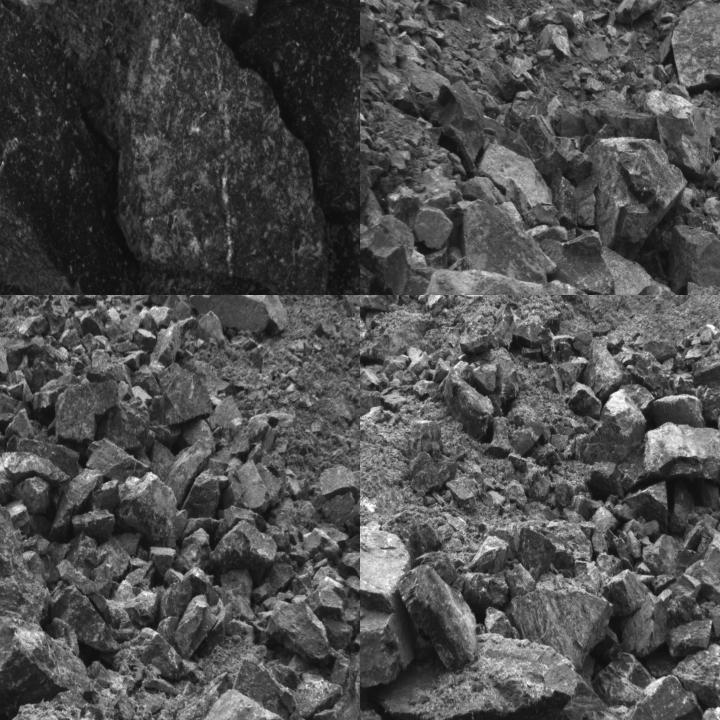stone: (0, 0, 113, 294), (240, 0, 359, 218), (382, 637, 580, 719), (586, 138, 688, 262), (360, 525, 417, 690), (505, 587, 613, 670), (458, 198, 554, 286), (399, 564, 480, 668), (0, 623, 89, 712), (619, 423, 719, 498), (478, 143, 559, 228), (577, 387, 649, 465), (114, 472, 187, 548), (46, 583, 121, 652), (509, 116, 574, 194), (432, 77, 487, 166), (266, 600, 338, 666), (54, 380, 128, 442), (538, 236, 613, 294), (671, 0, 719, 89), (209, 520, 277, 582), (49, 468, 104, 542), (189, 295, 289, 335), (439, 367, 493, 441), (589, 651, 655, 710), (621, 676, 705, 719), (667, 226, 719, 293), (611, 251, 689, 294), (158, 364, 212, 426), (583, 340, 635, 403), (675, 646, 719, 716), (86, 438, 152, 484), (166, 439, 212, 505), (102, 393, 154, 451), (545, 520, 595, 578), (622, 593, 668, 656), (598, 570, 657, 618), (360, 127, 384, 242), (182, 460, 228, 519), (360, 215, 416, 263), (682, 102, 718, 176), (222, 460, 270, 512), (622, 480, 670, 530), (410, 202, 454, 251), (517, 528, 556, 581), (296, 673, 344, 716), (641, 536, 691, 576), (1, 452, 71, 480), (374, 246, 413, 294), (32, 373, 82, 410), (505, 91, 550, 132), (693, 537, 719, 607), (632, 352, 673, 394), (464, 572, 507, 612), (582, 509, 620, 554), (668, 619, 714, 656), (410, 456, 457, 492), (229, 414, 270, 455), (655, 394, 705, 426), (405, 422, 446, 461), (10, 476, 52, 514), (148, 323, 177, 378), (470, 536, 511, 574), (72, 509, 115, 544), (174, 529, 212, 567), (316, 466, 359, 497), (566, 382, 602, 418), (556, 176, 579, 232), (160, 579, 193, 617), (101, 538, 130, 580), (670, 485, 696, 530), (124, 590, 158, 624), (510, 422, 542, 457), (304, 590, 344, 617), (689, 354, 719, 390), (670, 594, 701, 628), (487, 416, 512, 458), (360, 248, 382, 294), (696, 380, 719, 422), (267, 562, 294, 597), (446, 479, 476, 509), (6, 408, 34, 440), (473, 363, 501, 395), (324, 619, 354, 647), (0, 389, 29, 417), (559, 356, 588, 384), (540, 363, 564, 396), (642, 340, 677, 362), (360, 295, 402, 313), (506, 566, 534, 592), (80, 308, 105, 336), (346, 490, 359, 543), (17, 315, 48, 337), (148, 306, 177, 328), (413, 380, 442, 402), (554, 479, 572, 510), (432, 357, 453, 383), (704, 151, 719, 186), (452, 0, 495, 12), (133, 328, 155, 351), (0, 339, 10, 386), (562, 509, 585, 526), (628, 532, 642, 559), (73, 295, 97, 307), (552, 434, 568, 451), (699, 329, 711, 343)
